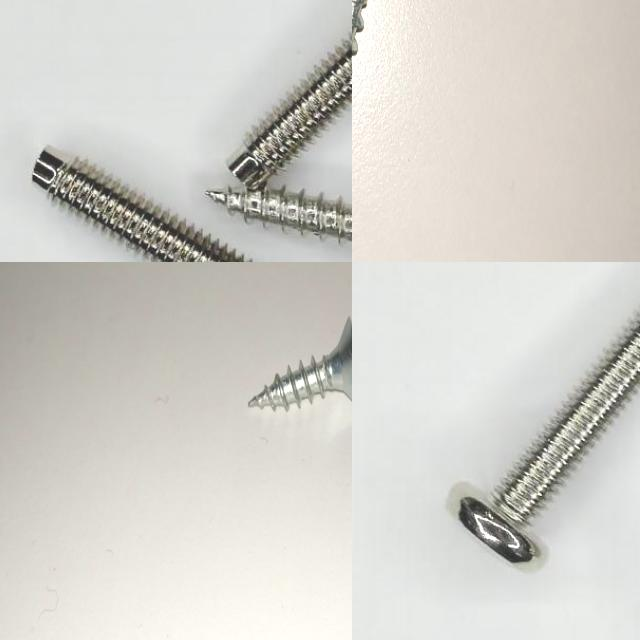Screw: (459, 321, 640, 563), (32, 149, 251, 262), (229, 37, 352, 190), (248, 316, 352, 411), (205, 188, 352, 243)
